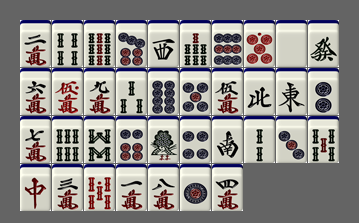0m: (52, 68, 83, 115)
0p: (244, 20, 275, 67)
0s: (84, 164, 115, 211)
1m: (116, 164, 147, 211)
1p: (180, 164, 211, 211)
1s: (148, 116, 179, 163)
1z: (276, 68, 307, 115)
2m: (20, 20, 51, 67)
2p: (308, 68, 339, 115)
2s: (244, 116, 275, 163)
2z: (212, 116, 243, 163)
3m: (52, 164, 83, 211)
3p: (276, 116, 307, 163)
3s: (116, 68, 147, 115)
3z: (148, 20, 179, 67)
4m: (212, 164, 243, 211)
4p: (180, 116, 211, 163)
4s: (52, 20, 83, 67)
4z: (244, 68, 275, 115)
5m: (212, 68, 243, 115)
5p: (180, 68, 211, 115)
5s: (308, 116, 339, 163)
5z: (276, 20, 307, 67)
6m: (20, 68, 51, 115)
6p: (116, 116, 147, 163)
6s: (52, 116, 83, 163)
6z: (308, 20, 339, 67)
7m: (20, 116, 51, 163)
7p: (116, 20, 147, 67)
7s: (180, 20, 211, 67)
7z: (20, 164, 51, 211)
8m: (148, 164, 179, 211)
8p: (148, 68, 179, 115)
8s: (84, 116, 115, 163)
9m: (84, 68, 115, 115)
9p: (212, 20, 243, 67)
9s: (84, 20, 115, 67)
